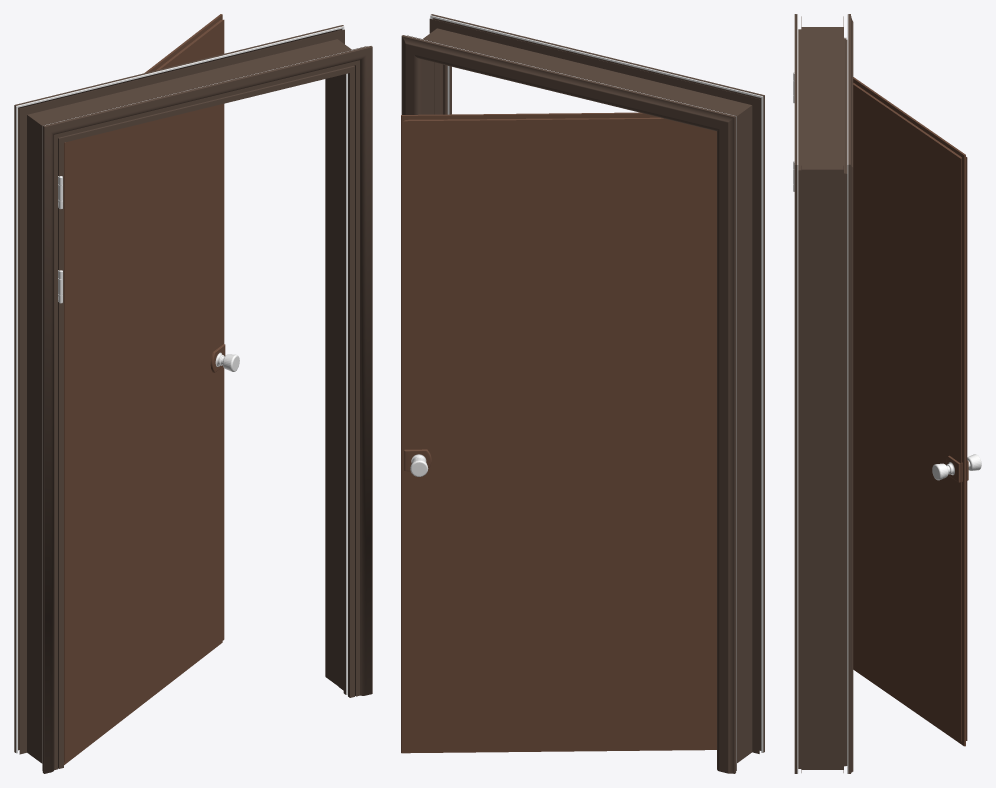
File: Door.glb
The picture shows the model from 3 angles, left to right: view 1: azimuth 30°, elevation 25°; view 2: azimuth 150°, elevation 25°; view 3: azimuth 270°, elevation 25°; orthographic projection. The views are drawn at different scales.
Parts seen in each view (by area): view 1: Curve.006_20, Curve.017_5, Curve.012_2, Curve.008_15, Curve.028_6, Curve.015_4, Curve.007_1, Curve.013_3; view 2: Curve.006_20, Curve.012_2, Curve.008_15, Curve.017_5, Curve.013_3, Curve.015_4; view 3: Curve.006_20, Curve.012_2, Curve.008_15, Curve.017_5, Curve.015_4, Curve.013_3.
Part boxes in pixels (left/top/right/bottom): Curve.006_20: left=64, top=14, right=224, bottom=764; Curve.017_5: left=43, top=46, right=372, bottom=773; Curve.012_2: left=19, top=29, right=367, bottom=770; Curve.008_15: left=14, top=25, right=343, bottom=752; Curve.028_6: left=58, top=66, right=354, bottom=768; Curve.015_4: left=16, top=26, right=344, bottom=753; Curve.007_1: left=346, top=73, right=347, bottom=695; Curve.013_3: left=42, top=45, right=370, bottom=772; Curve.006_20: left=401, top=112, right=716, bottom=753; Curve.012_2: left=407, top=19, right=759, bottom=770; Curve.008_15: left=401, top=35, right=735, bottom=773; Curve.017_5: left=431, top=14, right=764, bottom=752; Curve.013_3: left=430, top=15, right=763, bottom=752; Curve.015_4: left=404, top=35, right=736, bottom=772; Curve.006_20: left=853, top=77, right=967, bottom=746; Curve.012_2: left=801, top=16, right=843, bottom=772; Curve.008_15: left=793, top=14, right=853, bottom=773; Curve.017_5: left=794, top=14, right=801, bottom=773; Curve.015_4: left=847, top=14, right=848, bottom=773; Curve.013_3: left=797, top=14, right=798, bottom=773.
Bounding box in the file's own units: 1.31 × 2.46 × 0.6901.
